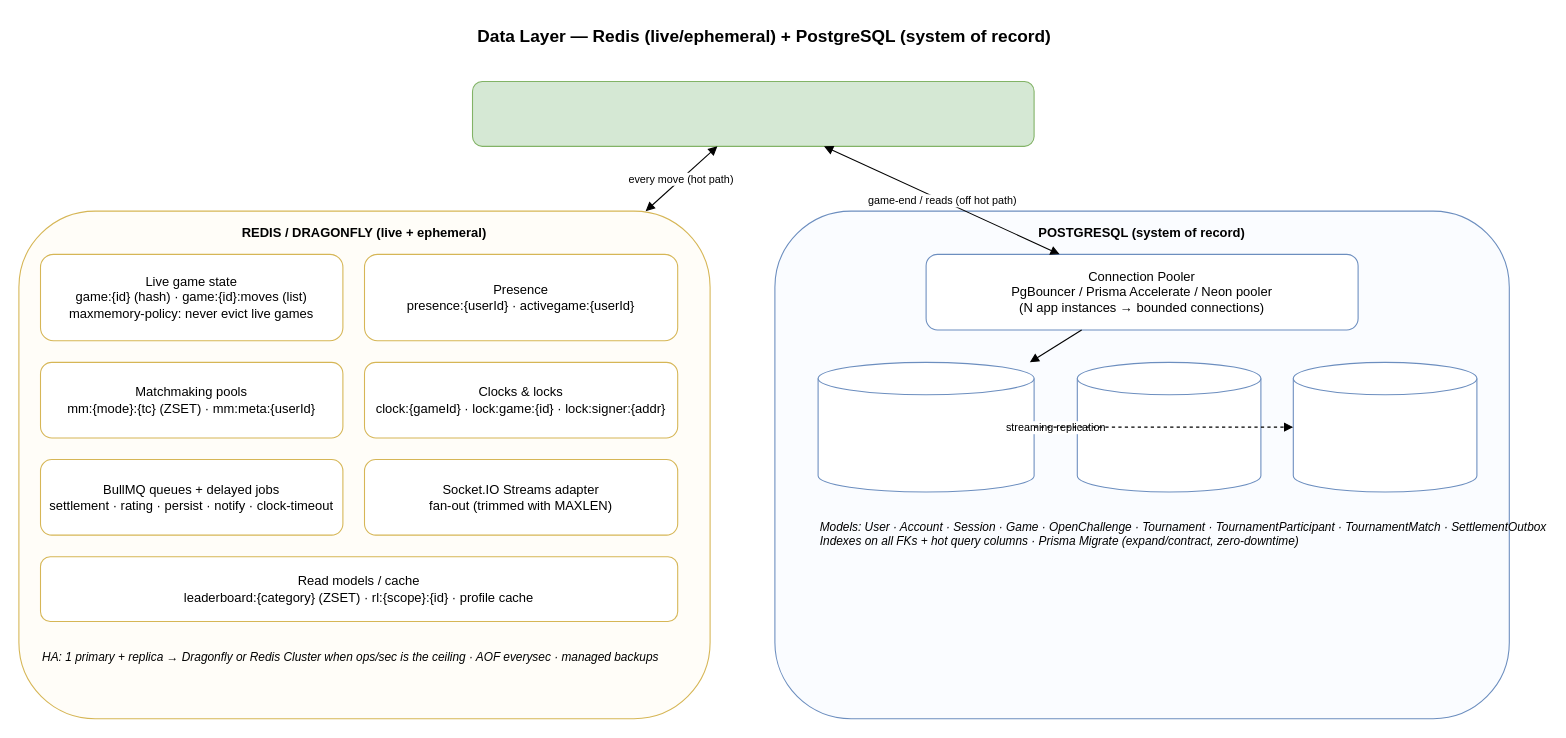
The diagram is 1566 pixels wide and 738 high, and some of its shapes have lost their labels. Each missing label, with the centre of its shape:
Primary (writes) game-end persist · matches rating updates · outbox: point 925,426
Read replica 1 profiles · history: point 1168,426
Read replica 2 leaderboard · admin: point 1384,426
Stateless services web · gateway · engine · matchmaking · workers · scheduler: point 752,113
